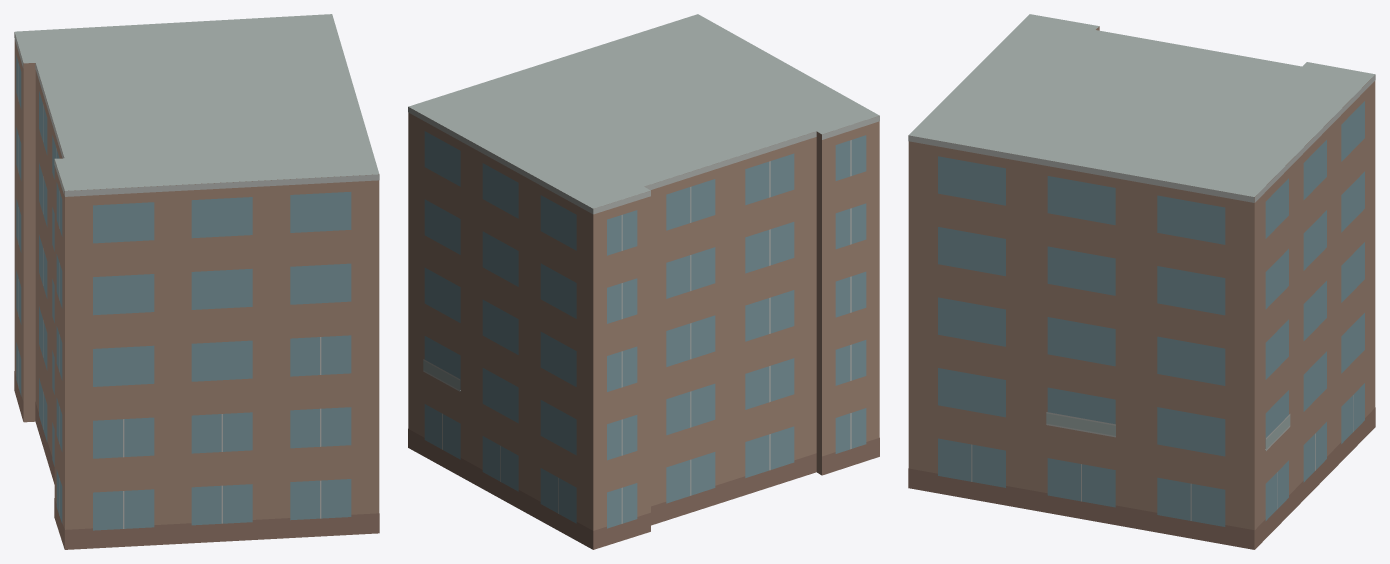
File: survey-upis-32524925.glb
3 renders of one model, left to right at view 1: azimuth 30°, elevation 25°; view 2: azimuth 150°, elevation 25°; view 3: azimuth 270°, elevation 25°, orthographic. The views are drawn at different scales.
Parts seen in each view (by area): view 1: survey-upis-32524925.tmp; view 2: survey-upis-32524925.tmp; view 3: survey-upis-32524925.tmp.
Boxes of the visible parts, x1,y1,x2,y2 form: survey-upis-32524925.tmp: [14, 14, 379, 549]; survey-upis-32524925.tmp: [408, 14, 879, 549]; survey-upis-32524925.tmp: [908, 14, 1375, 549].
Bounding box in the file's own units: 16.26 × 14.6 × 17.53.
